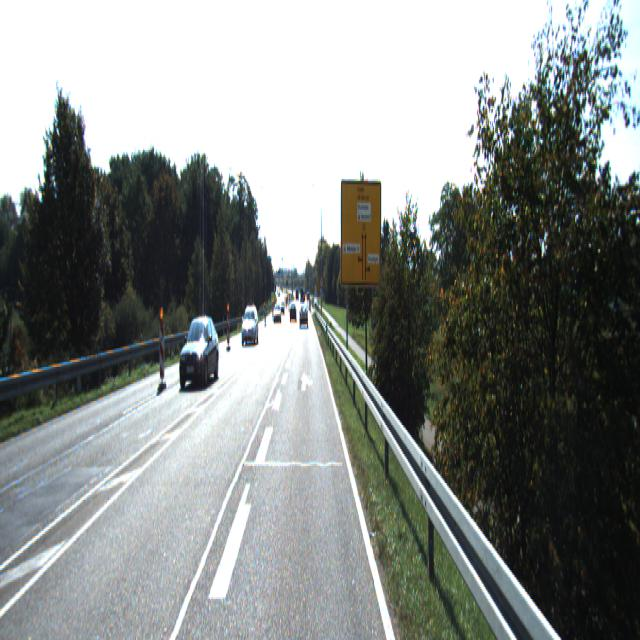Car: (179, 313, 220, 392), (241, 306, 259, 346), (300, 304, 308, 326)
